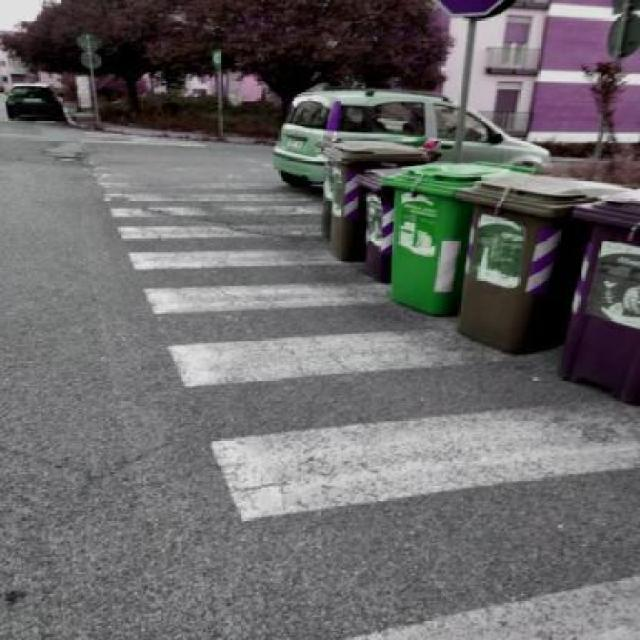crosswalk: (81, 139, 640, 520)
